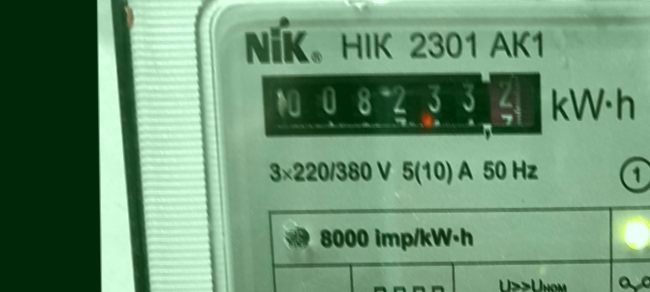0: (282, 86, 303, 119), (318, 85, 337, 116)
2: (388, 83, 408, 116), (496, 78, 513, 110)
3: (424, 82, 442, 114), (460, 81, 477, 112)
8: (354, 84, 372, 116)
screen: (251, 61, 552, 147)
